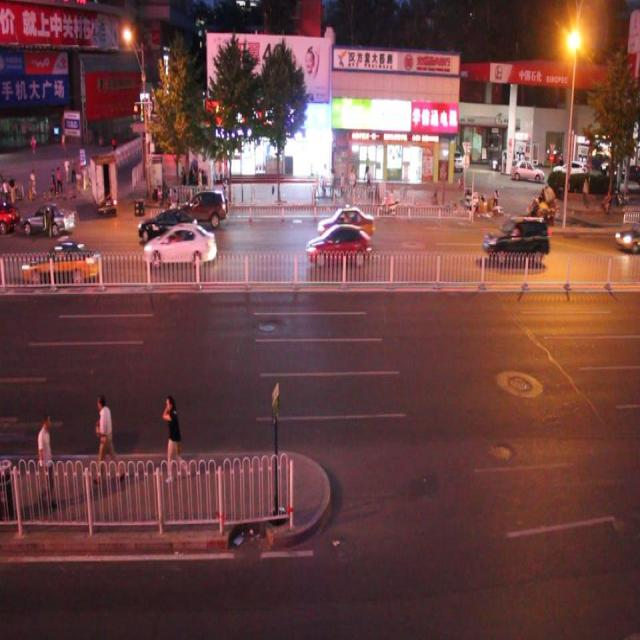bus: (90, 152, 119, 211)
car: (24, 237, 102, 283), (481, 213, 548, 264), (143, 222, 217, 268), (307, 224, 369, 267), (174, 190, 228, 236), (138, 204, 199, 244), (20, 196, 77, 238), (318, 207, 374, 240), (611, 220, 640, 255)
